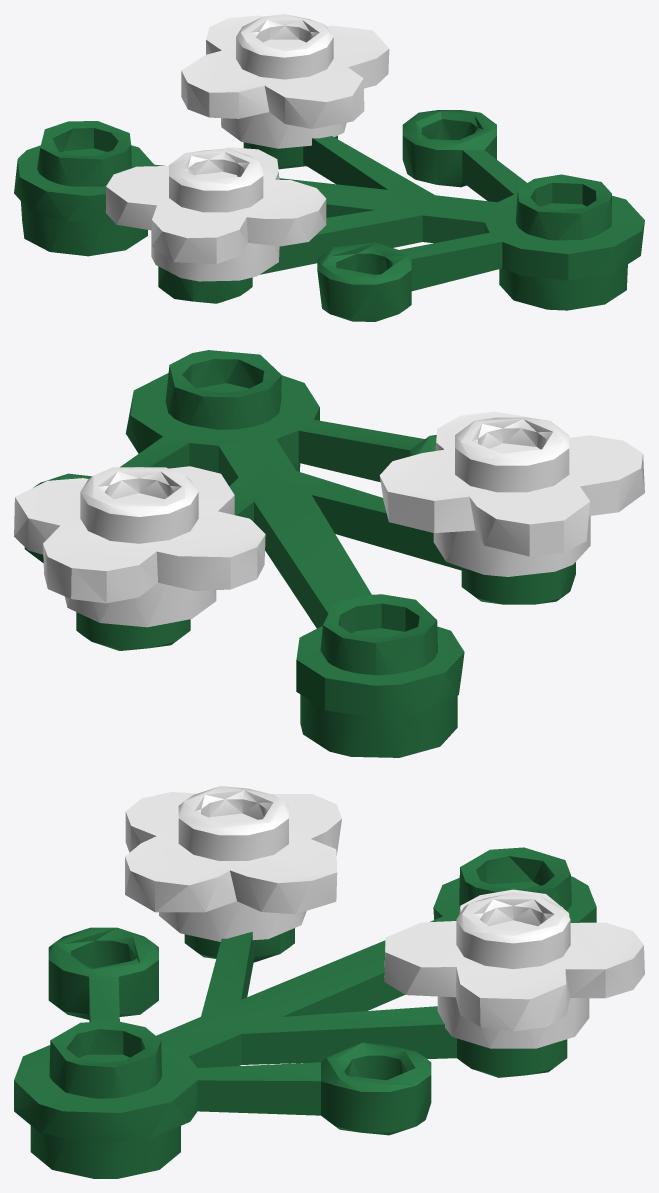
The model's file is frog_stem_a_white.glb.
3 renders of one model, top to bottom at view 1: azimuth 30°, elevation 25°; view 2: azimuth 150°, elevation 25°; view 3: azimuth 270°, elevation 25°, orthographic. The views are drawn at different scales.
Visible parts, largest first — view 1: frog_stem_a_white; view 2: frog_stem_a_white; view 3: frog_stem_a_white.
Boxes of the visible parts, x1,y1,x2,y2 form: frog_stem_a_white: (14, 14, 644, 321); frog_stem_a_white: (14, 350, 644, 757); frog_stem_a_white: (14, 786, 644, 1178).
Bounding box in the file's own units: 0.8873 × 0.2846 × 0.9399.
